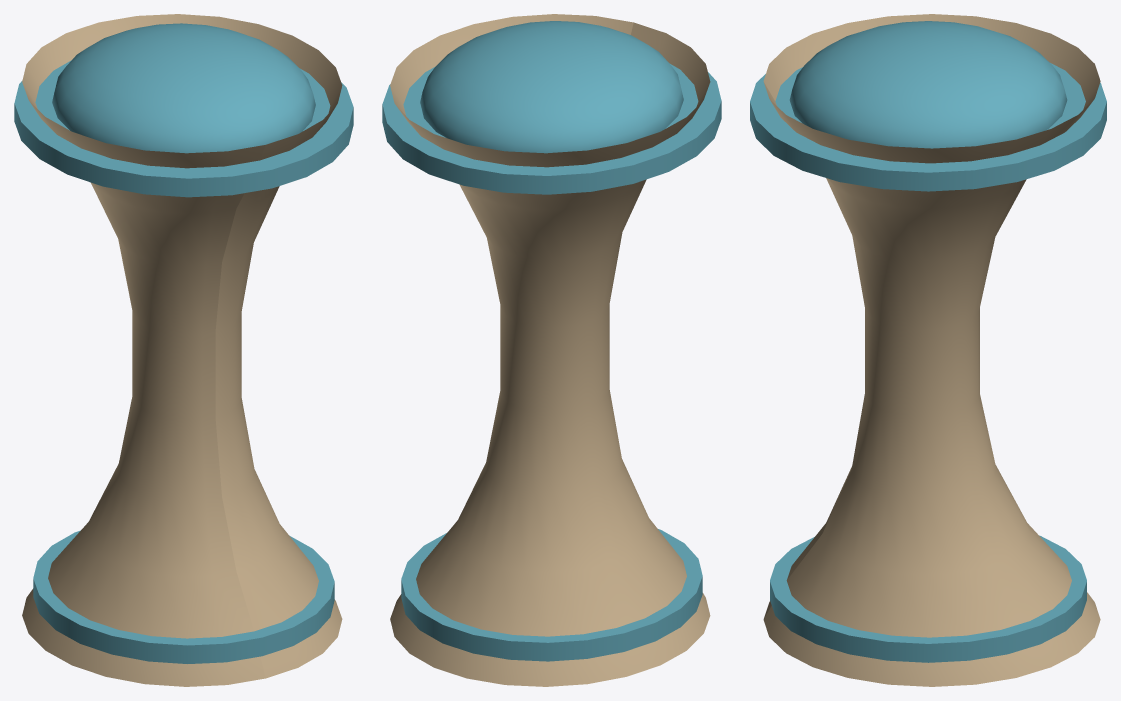
The model's file is right_digit_5_middle.glb.
3 renders of one model, left to right at view 1: azimuth 30°, elevation 25°; view 2: azimuth 150°, elevation 25°; view 3: azimuth 270°, elevation 25°, orthographic.
Visible parts, largest first — view 1: right_digit_5_middle:diaphysis, right_digit_5_middle:proximal-envelope, right_digit_5_middle:proximal-epiphyseal-plate, right_digit_5_middle:distal-epiphyseal-plate; view 2: right_digit_5_middle:diaphysis, right_digit_5_middle:proximal-envelope, right_digit_5_middle:proximal-epiphyseal-plate, right_digit_5_middle:distal-epiphyseal-plate; view 3: right_digit_5_middle:diaphysis, right_digit_5_middle:proximal-envelope, right_digit_5_middle:proximal-epiphyseal-plate, right_digit_5_middle:distal-epiphyseal-plate.
Boxes of the visible parts, x1=… form: right_digit_5_middle:diaphysis: x1=22, y1=14, x2=342, y2=686; right_digit_5_middle:proximal-envelope: x1=52, y1=23, x2=315, y2=153; right_digit_5_middle:proximal-epiphyseal-plate: x1=14, y1=60, x2=353, y2=197; right_digit_5_middle:distal-epiphyseal-plate: x1=33, y1=530, x2=334, y2=663; right_digit_5_middle:diaphysis: x1=390, y1=14, x2=710, y2=686; right_digit_5_middle:proximal-envelope: x1=420, y1=21, x2=683, y2=153; right_digit_5_middle:proximal-epiphyseal-plate: x1=382, y1=63, x2=721, y2=194; right_digit_5_middle:distal-epiphyseal-plate: x1=401, y1=529, x2=702, y2=661; right_digit_5_middle:diaphysis: x1=763, y1=14, x2=1100, y2=686; right_digit_5_middle:proximal-envelope: x1=789, y1=21, x2=1067, y2=148; right_digit_5_middle:proximal-epiphyseal-plate: x1=750, y1=63, x2=1106, y2=191; right_digit_5_middle:distal-epiphyseal-plate: x1=770, y1=535, x2=1086, y2=662.
Size of the model in its own units: 0.0255 by 0.051 by 0.027.
